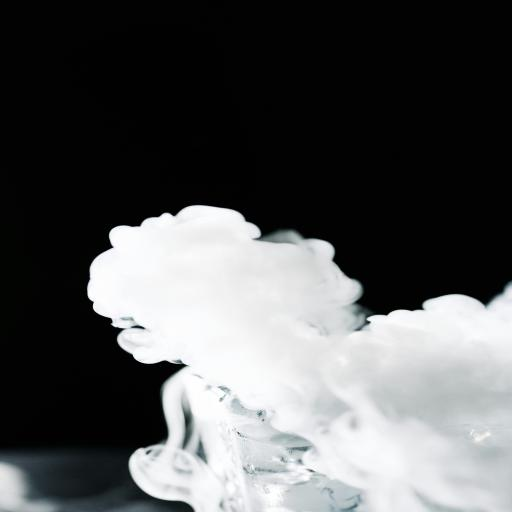smoke: (48, 187, 512, 512)
